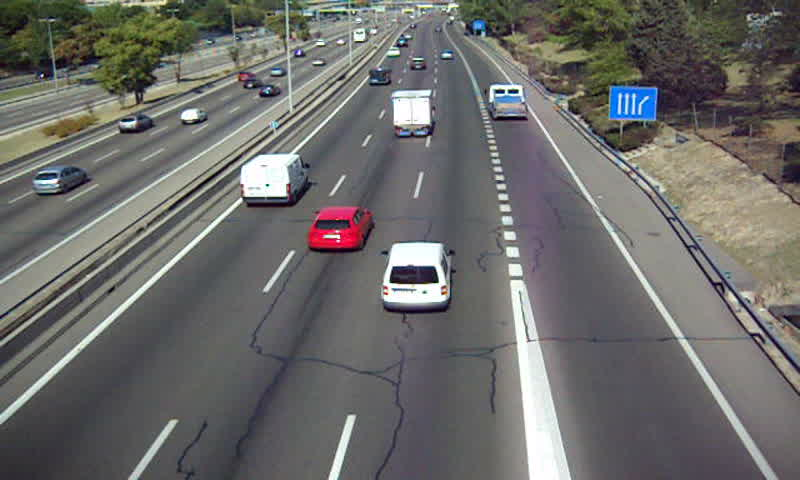car: (379, 242, 453, 309), (306, 205, 374, 250), (408, 56, 427, 72), (440, 50, 456, 62)
small-truck: (391, 88, 434, 136), (487, 83, 527, 120)
van: (238, 154, 309, 205), (366, 67, 391, 89)
